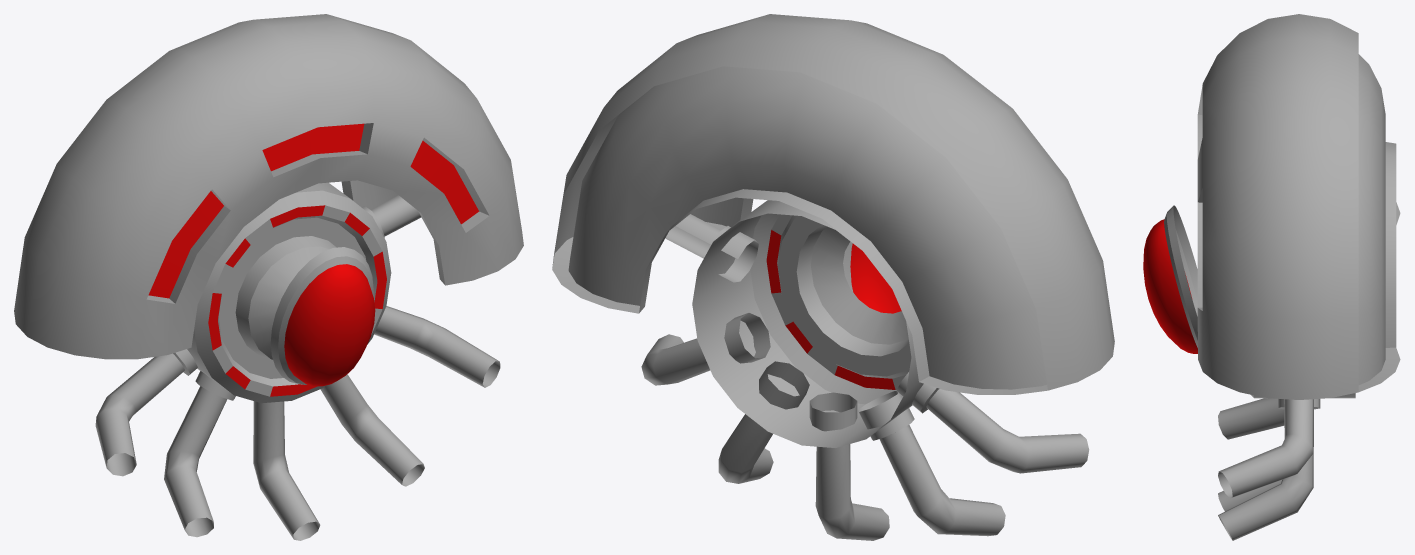
The model's file is SM_Boss02.fbx.
3 renders of one model, left to right at view 1: azimuth 30°, elevation 25°; view 2: azimuth 150°, elevation 25°; view 3: azimuth 270°, elevation 25°, orthographic. The views are drawn at different scales.
Parts seen in each view (by area): view 1: polySurface7; view 2: polySurface7; view 3: polySurface7.
Boxes of the visible parts, <box> form: polySurface7: <box>14,14,523,540</box>; polySurface7: <box>552,14,1114,540</box>; polySurface7: <box>1143,14,1400,540</box>.
Bounding box in the file's own units: 487 × 470 × 228.
